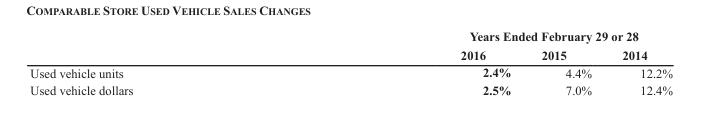table: (29, 28, 671, 96)
table column: (29, 28, 296, 96), (296, 28, 525, 96), (525, 28, 606, 96), (606, 28, 671, 96)
table column header: (29, 28, 671, 63)
table row: (29, 45, 671, 63), (29, 63, 671, 81), (29, 28, 671, 45), (29, 81, 671, 96)
table spanning cell: (296, 28, 671, 45)
